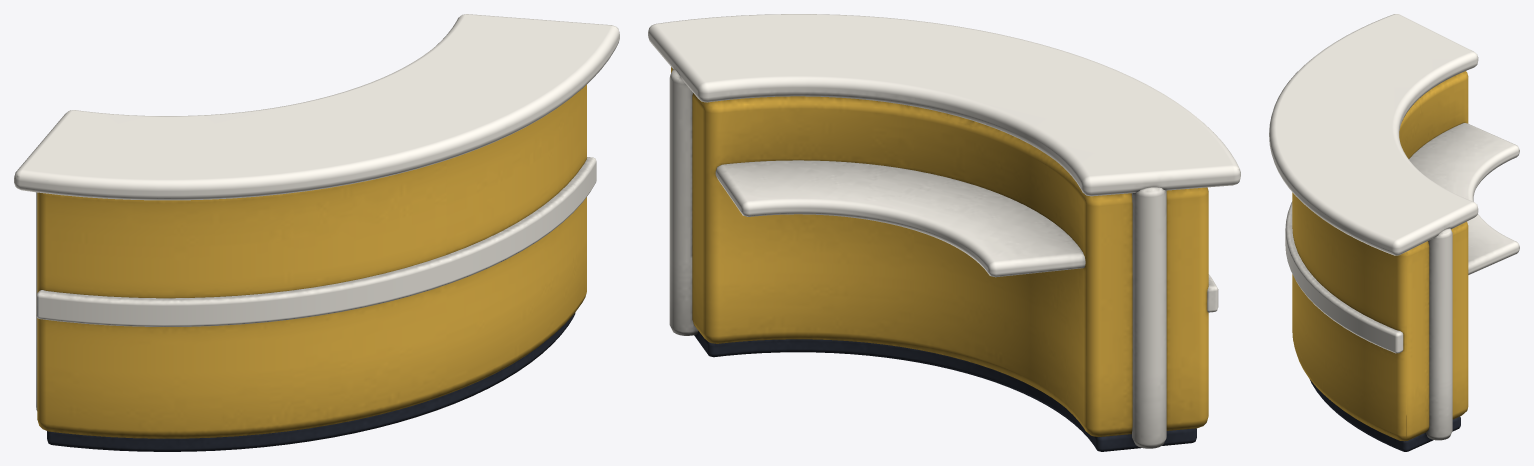
Rendered from reception_desk.glb.
3 views of the same model, side by side, from view 1: azimuth 30°, elevation 25°; view 2: azimuth 150°, elevation 25°; view 3: azimuth 270°, elevation 25° (orthographic). The views are drawn at different scales.
Parts seen in each view (by area): view 1: reception_desk; view 2: reception_desk; view 3: reception_desk.
Part boxes in pixels (left/top/right/bottom): reception_desk: left=14, top=14, right=619, bottom=451; reception_desk: left=648, top=14, right=1240, bottom=451; reception_desk: left=1269, top=14, right=1519, bottom=451.
Bounding box in the file's own units: 2.35 × 1.08 × 1.08.
3 materials, 3 textured.
